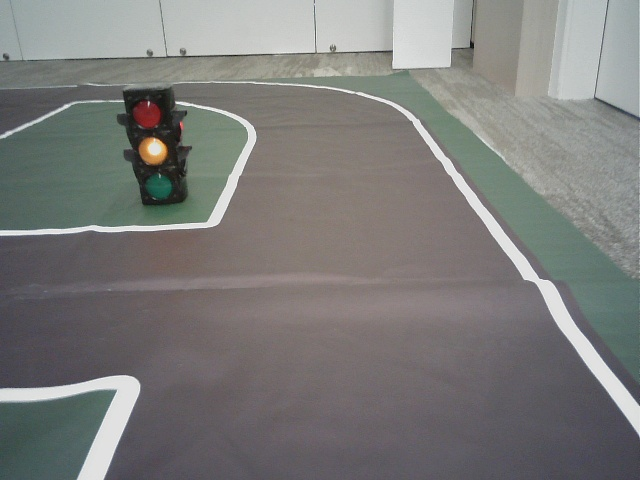yellow: (128, 95, 176, 199)
